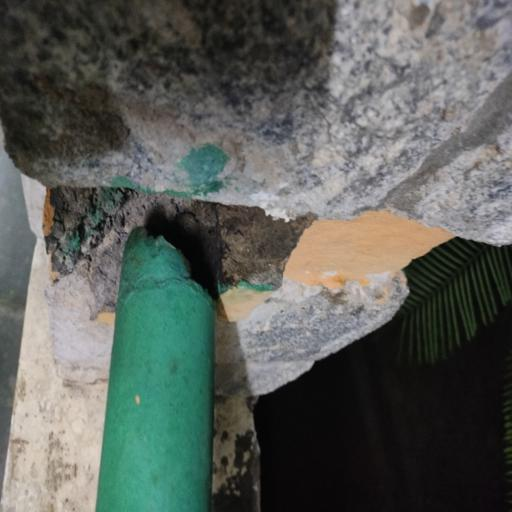spalling: (0, 131, 312, 294)
